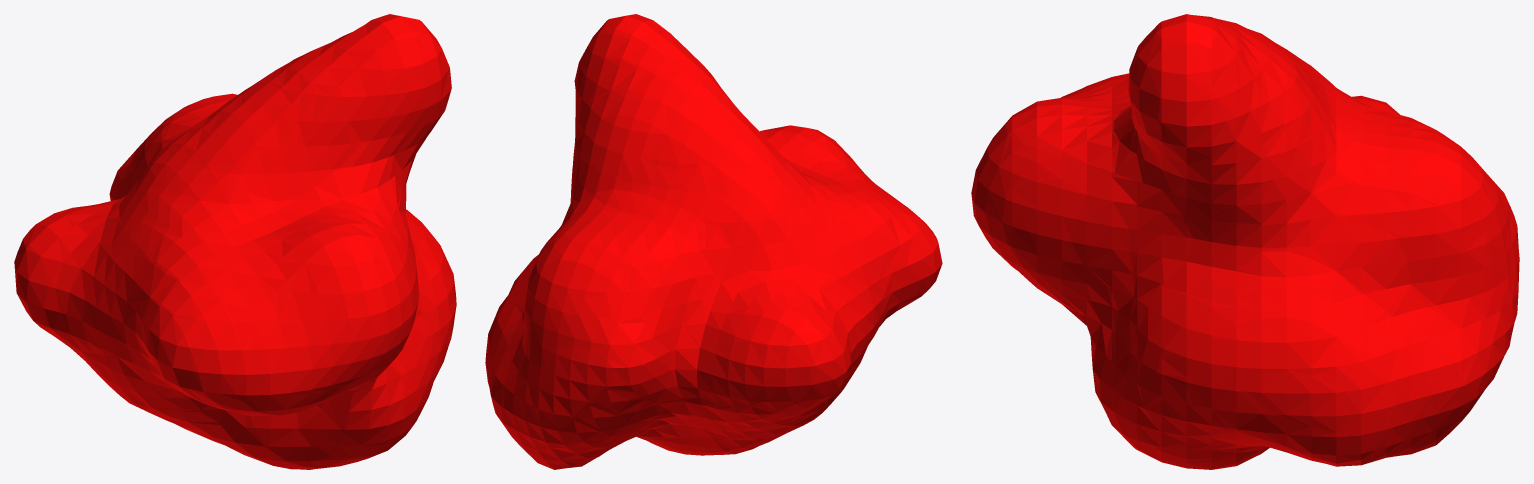
Rendered from ymjA_coarse.dae.
3 renders of one model, left to right at view 1: azimuth 30°, elevation 25°; view 2: azimuth 150°, elevation 25°; view 3: azimuth 270°, elevation 25°, orthographic. The views are drawn at different scales.
Visible parts, largest first — view 1: ymjA; view 2: ymjA; view 3: ymjA.
Part boxes in pixels (bbox=[...]): ymjA: bbox=[14, 14, 456, 469]; ymjA: bbox=[485, 14, 942, 469]; ymjA: bbox=[971, 14, 1519, 469].
Bounding box in the file's own units: 33.89 × 36.82 × 38.36.
